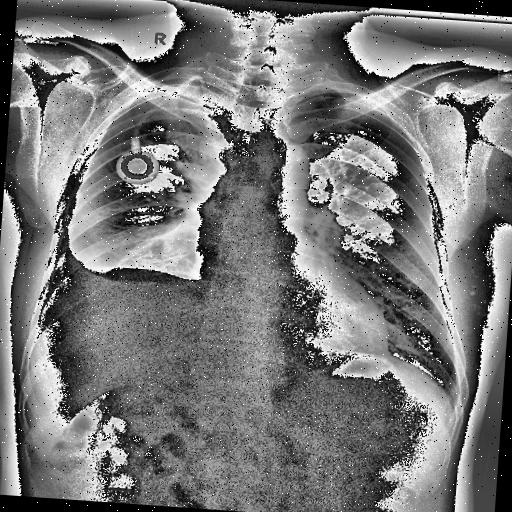10- Pleural effusion: (50, 222, 122, 300), (42, 212, 100, 290), (50, 237, 100, 302)
13- Pulmonary fibrosis: (121, 220, 195, 272)
9- Other lesion: (30, 262, 204, 342)
